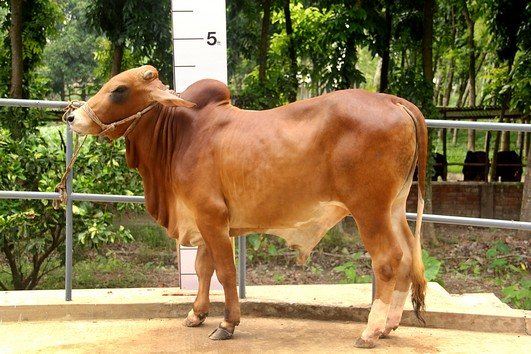cow: (59, 58, 440, 351)
